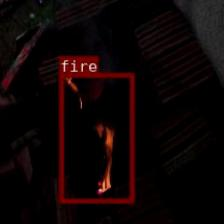fire: (58, 72, 133, 202)
